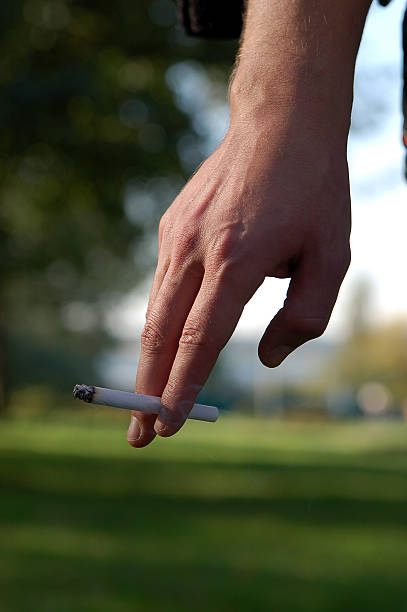cigarette: (69, 380, 221, 424)
